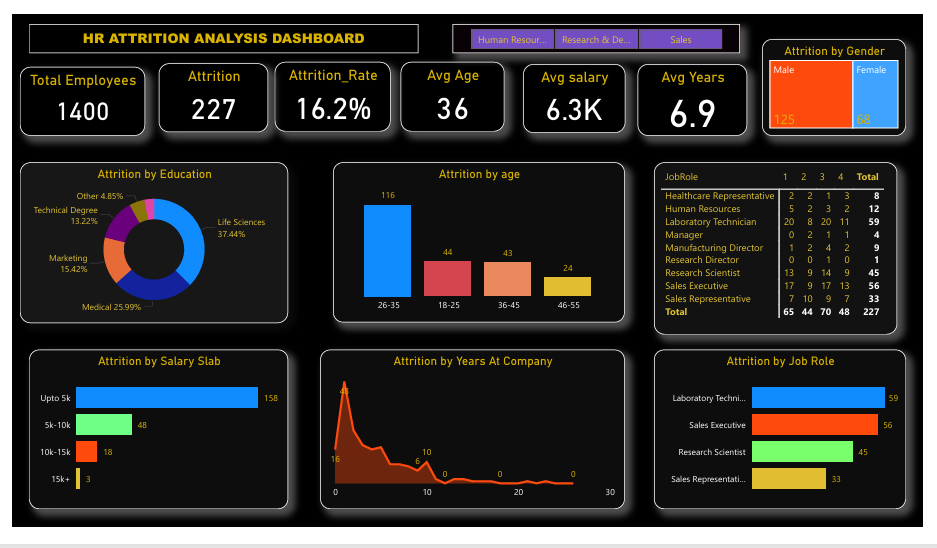

What the dashboard file says about the page in this screenshot:
{"tool":"powerbi","page":{"name":"Page 1","canvas":[1280,720],"ordinal":0},"visuals":[{"type":"card","title":"Total Employees","fields":{"Values":["CountNonNull(HR DATA.EmployeeNumber)"]},"box":[10.9,70,172.5,101.3],"z":0},{"type":"card","title":"Attrition","fields":{"Values":["Sum(HR DATA.AttritionCount)"]},"box":[205.8,68.6,153.7,97.4],"z":1000},{"type":"card","title":"Attrition_Rate","fields":{"Values":["HR DATA.AttritionRate"]},"box":[369.1,67.2,163.3,97.4],"z":2000},{"type":"card","title":"Avg Age","fields":{"Values":["Avg(HR DATA.Age)"]},"box":[546.1,67.2,145.5,97.4],"z":3000},{"type":"card","title":"Avg salary","fields":{"Values":["Avg(HR DATA.MonthlyIncome)"]},"box":[717.7,70,144.1,97.4],"z":4000},{"type":"card","title":"Avg Years","fields":{"Values":["Avg(HR DATA.YearsAtCompany)"]},"box":[879.5,70,153.2,101.3],"z":5000},{"type":"columnChart","title":" Attrition by age","fields":{"Category":["HR DATA.AgeGroup"],"Y":["Sum(HR DATA.AttritionCount)"]},"box":[451.2,207.5,410.2,225.6],"z":6000},{"type":"barChart","title":" Attrition by Salary Slab","fields":{"Category":["HR DATA.SalarySlab"],"Y":["Sum(HR DATA.AttritionCount)"]},"box":[24.1,470.5,364.3,224.4],"z":7000},{"type":"areaChart","title":" Attrition by Years At Company","fields":{"Y":["Sum(HR DATA.AttritionCount)"],"Category":["HR DATA.YearsAtCompany"]},"box":[433.1,470.5,428.3,224.4],"z":8000},{"type":"barChart","title":" Attrition by Job Role","fields":{"Category":["HR DATA.JobRole"],"Y":["Sum(HR DATA.AttritionCount)"]},"box":[902.4,470.5,353.5,224.4],"z":9000},{"type":"treemap","title":" Attrition by Gender","fields":{"Group":["HR DATA.Gender"],"Values":["Sum(HR DATA.AttritionCount)"]},"box":[1054.4,35,201.5,136.3],"z":10000},{"type":"slicer","fields":{"Values":["HR DATA.Department"]},"box":[618.9,14.5,404.2,41],"z":11000},{"type":"pivotTable","fields":{"Rows":["HR DATA.JobRole"],"Columns":["HR DATA.JobSatisfaction"],"Values":["Sum(HR DATA.AttritionCount)"]},"box":[902.4,207.5,341.4,242.5],"z":13000},{"type":"donutChart","title":" Attrition by Education","fields":{"Category":["HR DATA.EducationField"],"Y":["Sum(HR DATA.AttritionCount)"]},"box":[10.9,207.5,377.6,226.8],"z":14000},{"type":"textbox","box":[24.1,14.5,546.5,41],"z":14001}]}

Visuals, with their boxes in screenshot pixels (x1, y1, x2, y2):
"Total Employees" card: l=0, t=57, r=118, b=133
"Attrition" card: l=135, t=56, r=250, b=129
"Attrition_Rate" card: l=257, t=55, r=379, b=128
"Avg Age" card: l=389, t=55, r=498, b=128
"Avg salary" card: l=518, t=57, r=625, b=130
"Avg Years" card: l=639, t=57, r=753, b=133
" Attrition by age" columnChart: l=318, t=160, r=625, b=329
" Attrition by Salary Slab" barChart: l=0, t=357, r=271, b=525
" Attrition by Years At Company" areaChart: l=305, t=357, r=625, b=525
" Attrition by Job Role" barChart: l=656, t=357, r=920, b=525
" Attrition by Gender" treemap: l=770, t=31, r=920, b=133
slicer - HR DATA.Department: l=444, t=16, r=746, b=46
pivotTable - HR DATA.JobRole x HR DATA.JobSatisfaction: l=656, t=160, r=911, b=342
" Attrition by Education" donutChart: l=0, t=160, r=271, b=330
textbox: l=0, t=16, r=408, b=46
